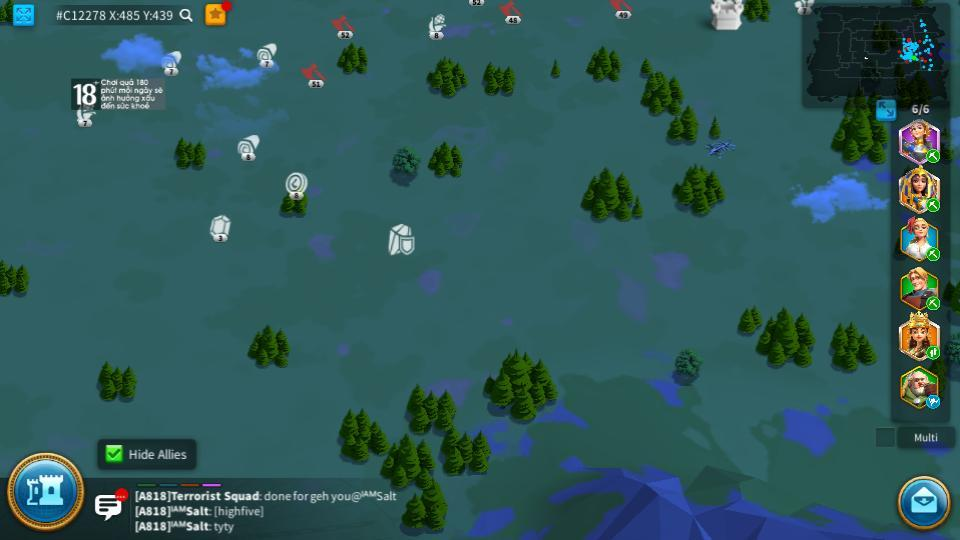gem-z-out: (209, 214, 232, 240)
march_farming: (925, 197, 941, 212), (925, 248, 941, 260), (925, 297, 942, 308)
march_idle: (925, 396, 942, 408)
march_marching: (925, 150, 942, 162), (925, 347, 942, 359)
